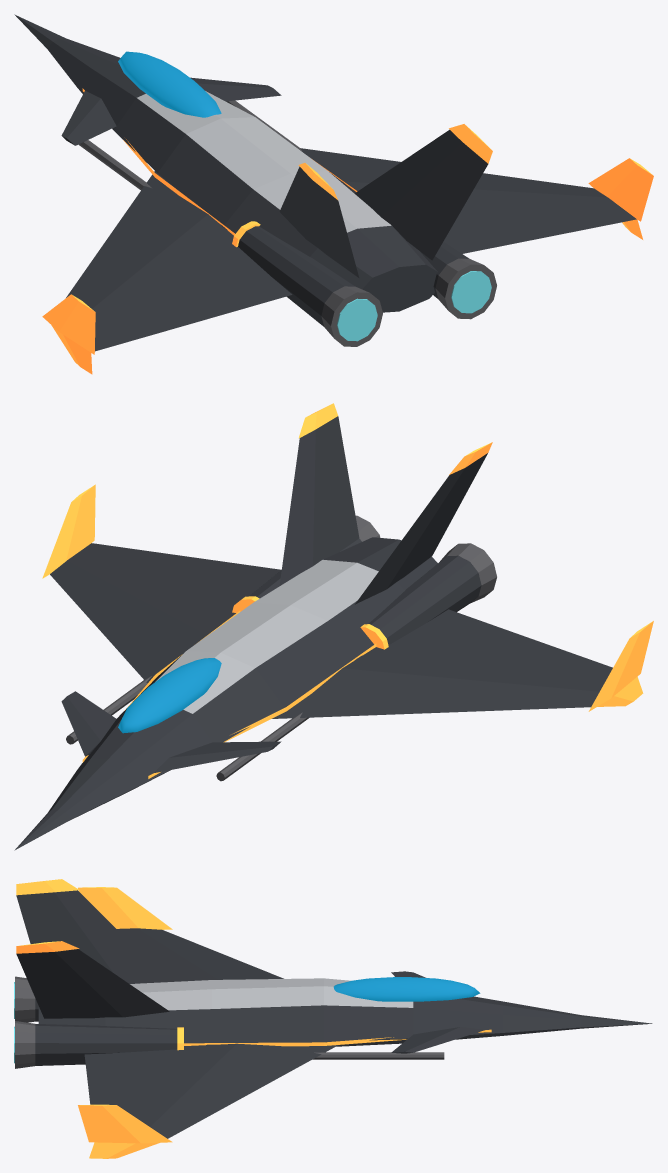
File: SpaceFighter.fbx
3 views of the same model, one above another, from view 1: azimuth 30°, elevation 25°; view 2: azimuth 150°, elevation 25°; view 3: azimuth 270°, elevation 25° (orthographic). The views are drawn at different scales.
Parts seen in each view (by area): view 1: Ship_Hull, Ship_EngineGlow_R, Ship_EngineGlow_L; view 2: Ship_Hull; view 3: Ship_Hull.
Part boxes in pixels (bbox=[...]): Ship_Hull: bbox=[14, 14, 653, 374]; Ship_EngineGlow_R: bbox=[451, 271, 491, 313]; Ship_EngineGlow_L: bbox=[337, 298, 377, 341]; Ship_Hull: bbox=[14, 403, 653, 850]; Ship_Hull: bbox=[15, 879, 652, 1158].
Bounding box in the file's own units: 4.62 × 1.39 × 5.72.
